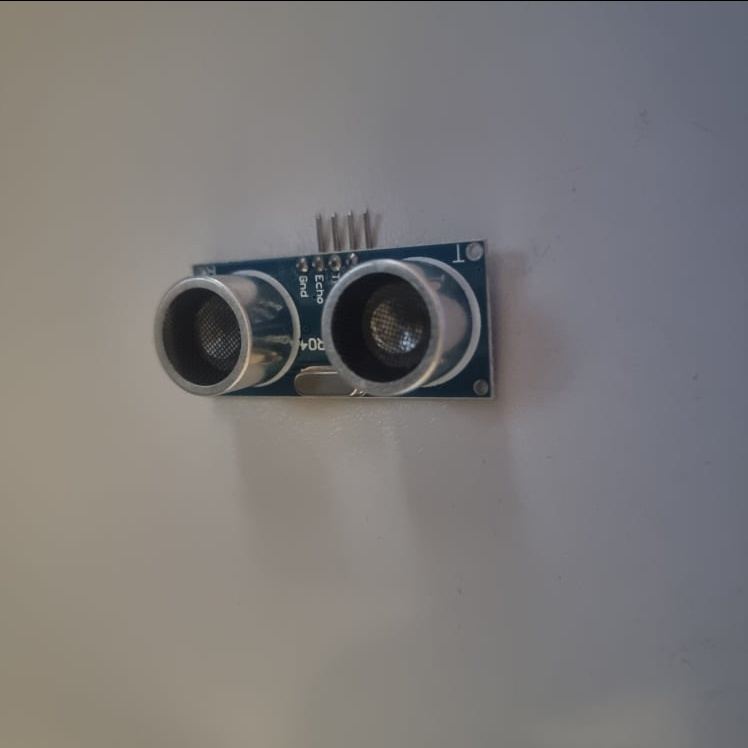SENSOR: (153, 207, 495, 404)
